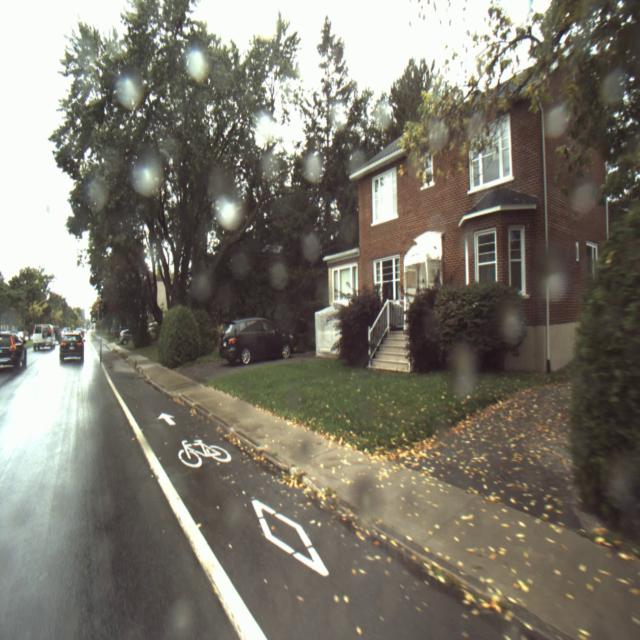car: (220, 317, 293, 365), (1, 330, 28, 374), (58, 331, 84, 365), (31, 324, 56, 351)
